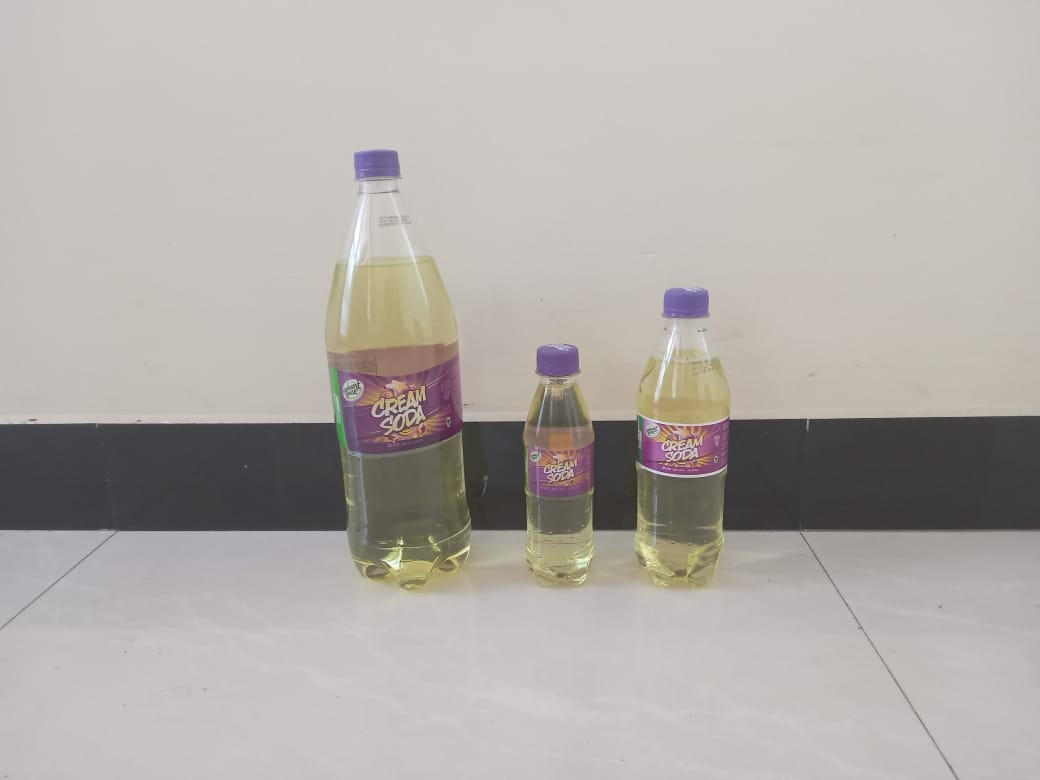L: (324, 148, 474, 588)
S: (634, 287, 732, 586)
Xs: (520, 345, 600, 588)
